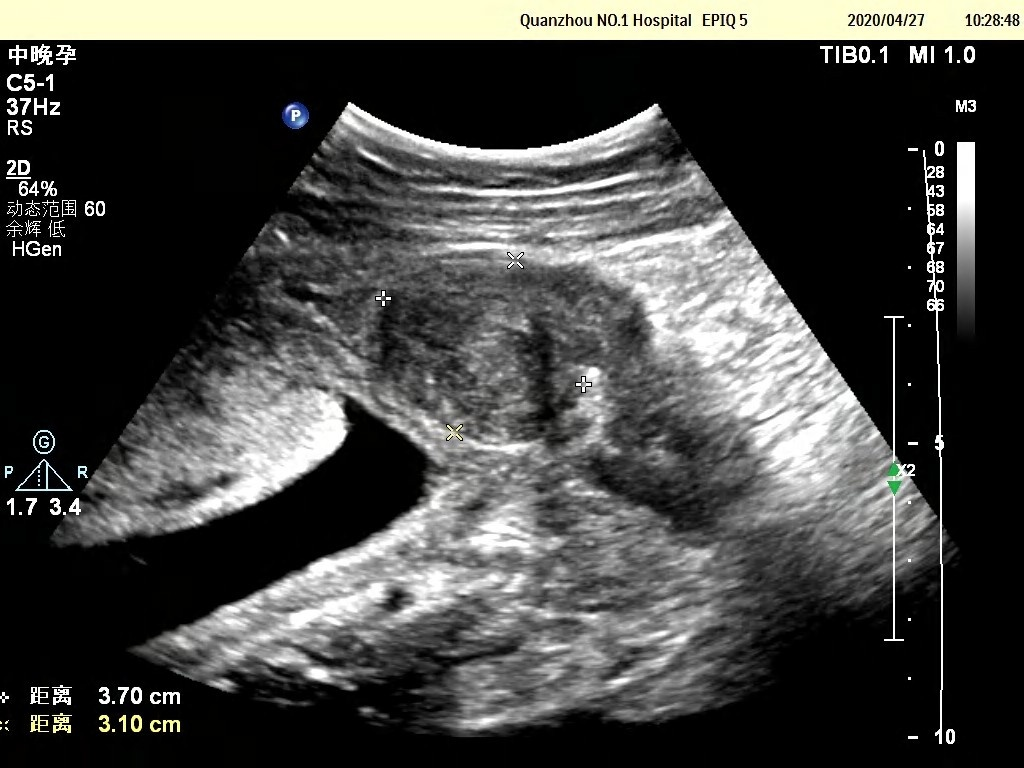肌瘤: (383, 259, 586, 433)
